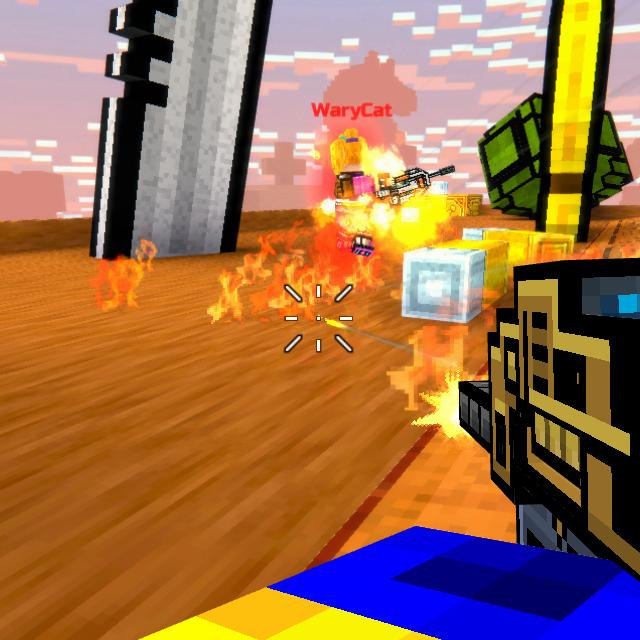Enemy: (323, 135, 381, 243)
